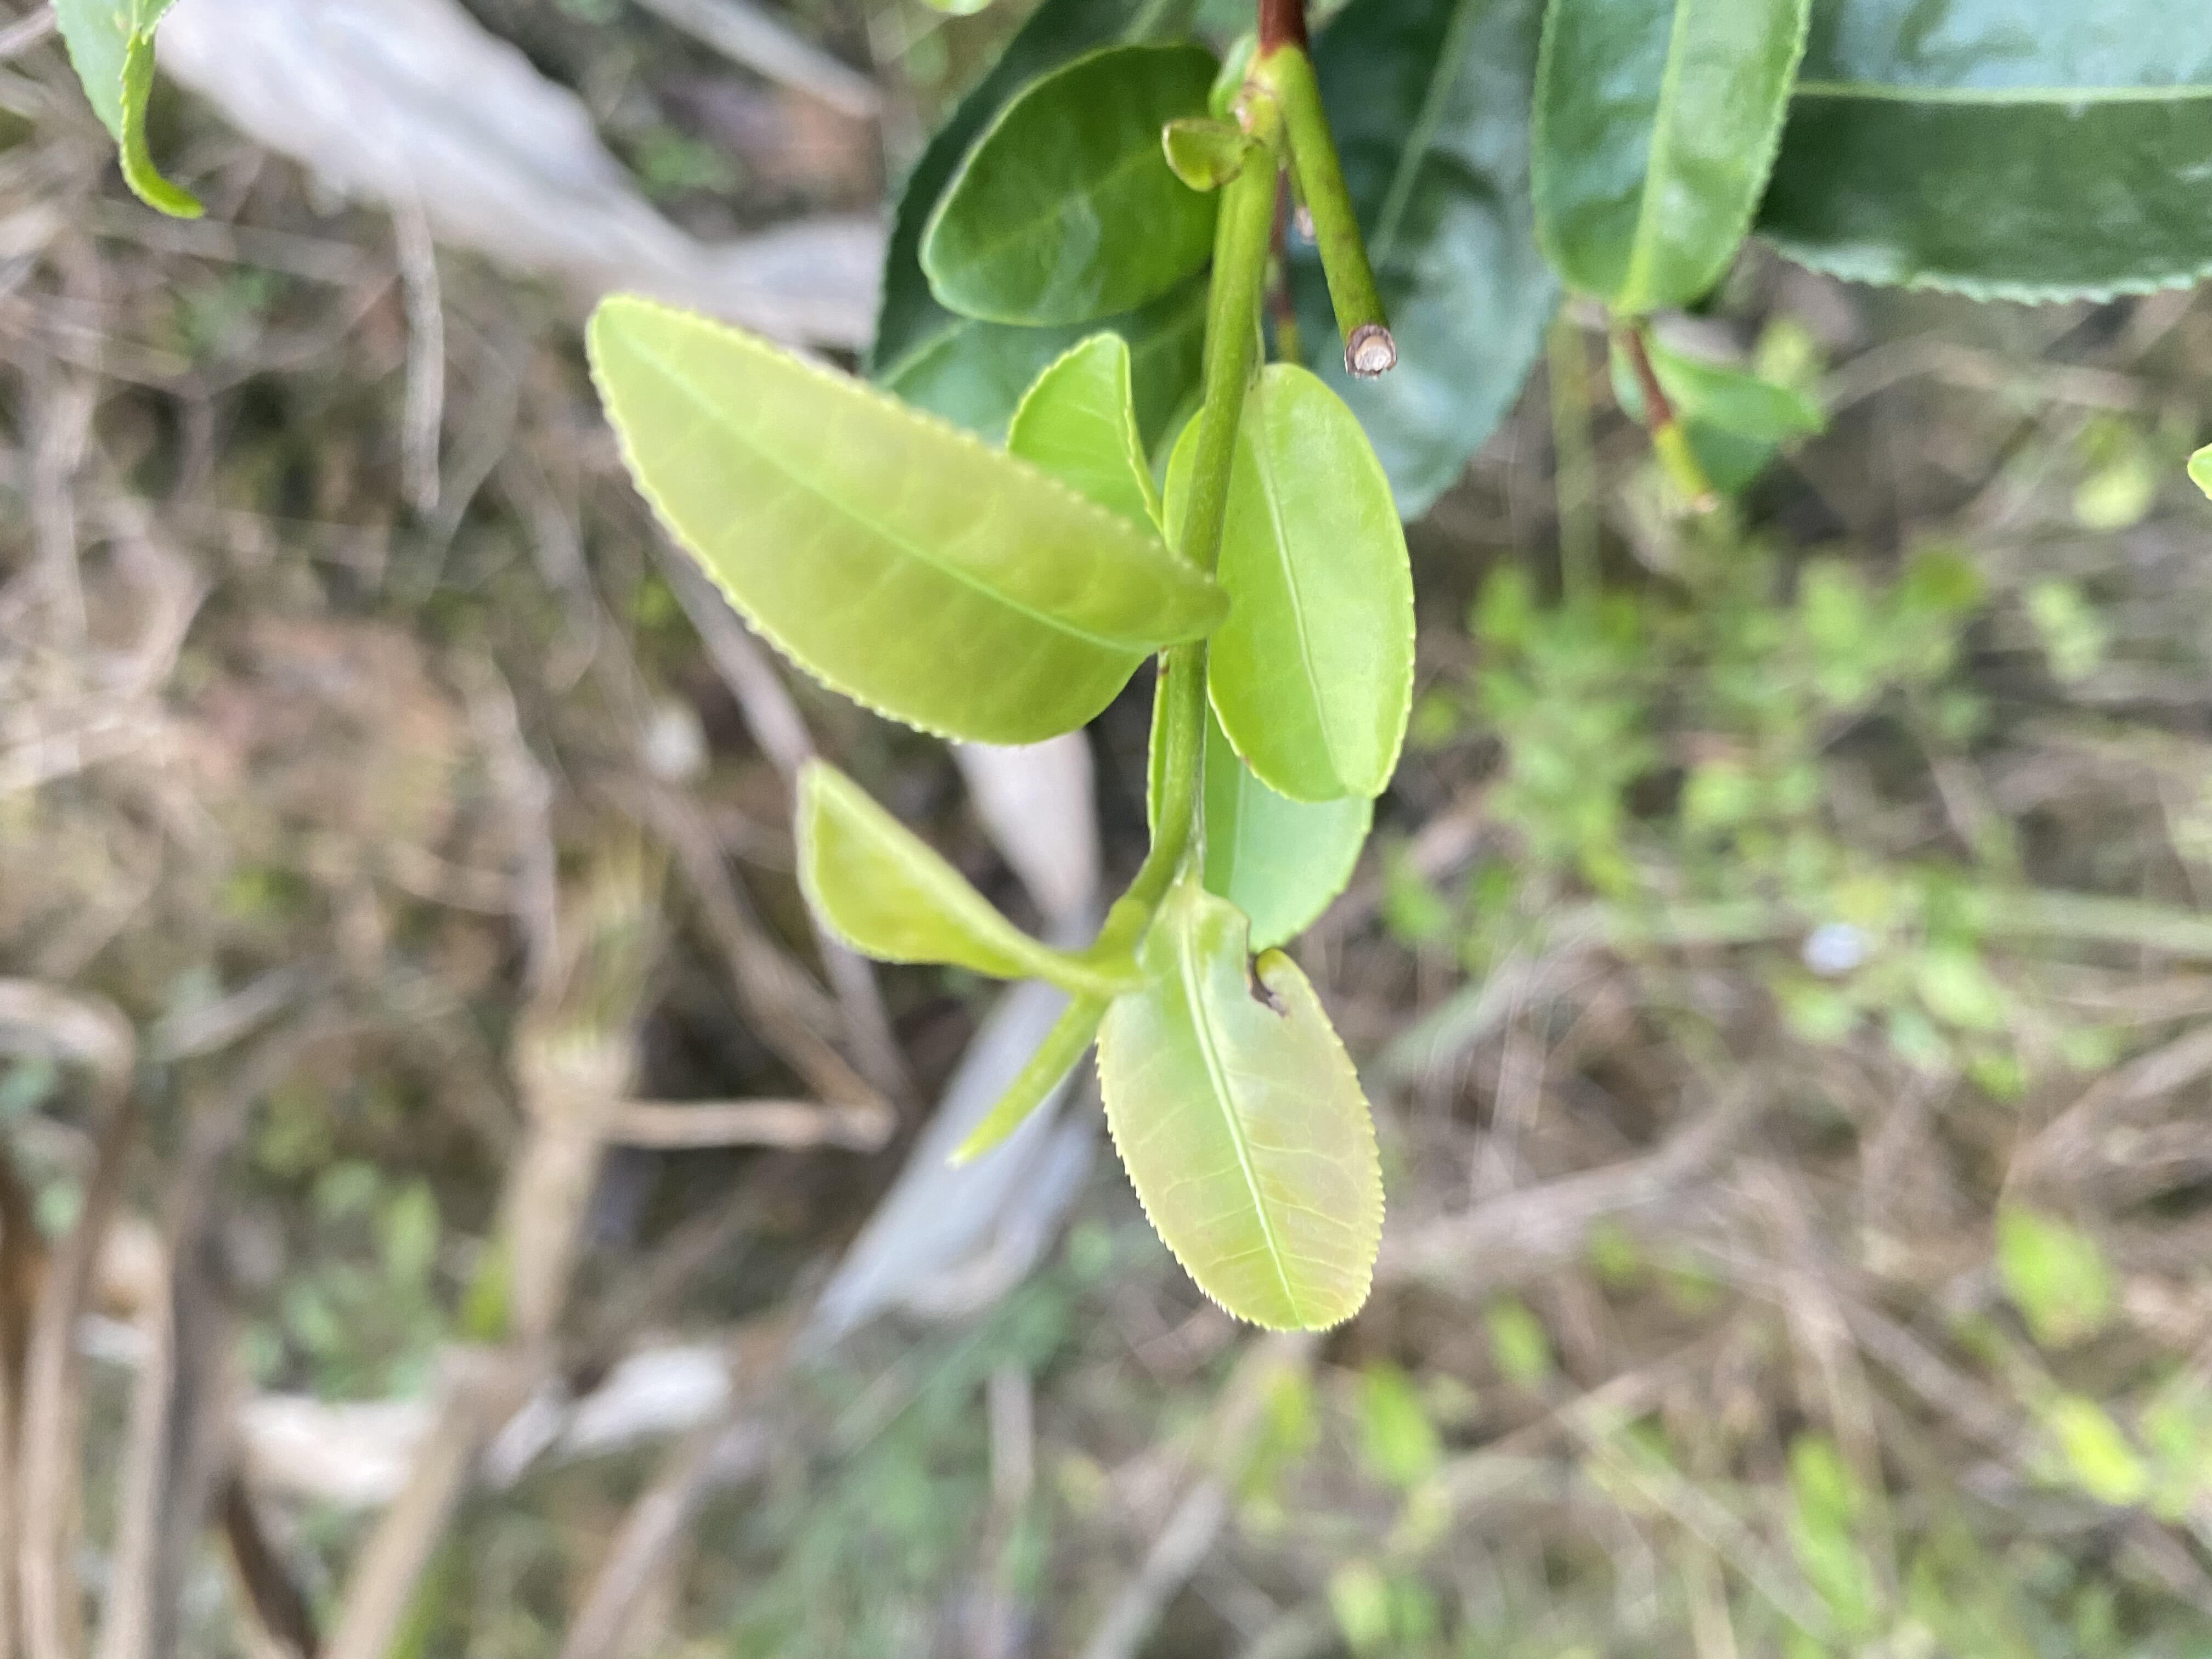chihuo_low: (1092, 885, 1383, 1333)
healthy: (582, 295, 1230, 749), (1158, 359, 1421, 807)
